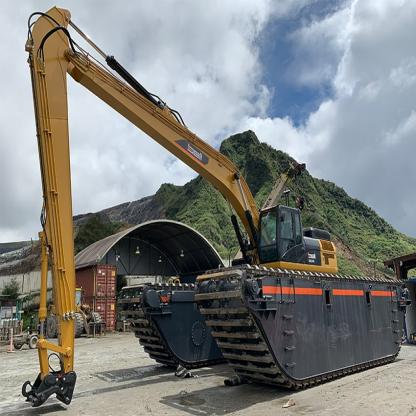excavator: (12, 8, 413, 416)
